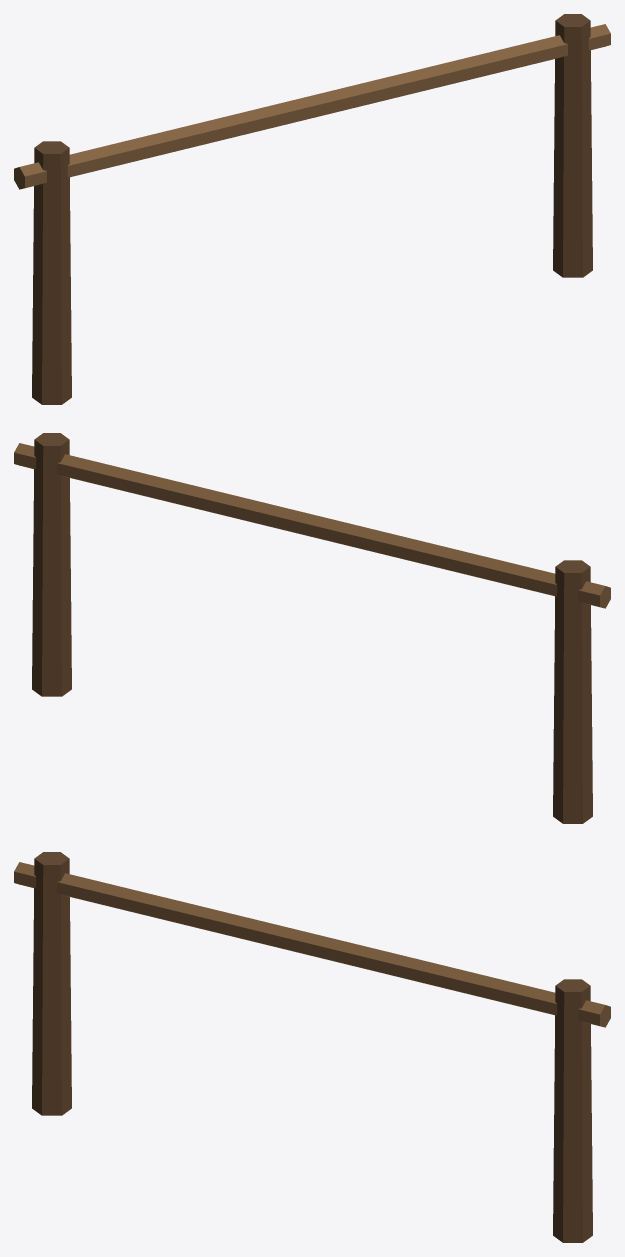
The model's file is Farm_HitchingPost.obj.
The picture shows the model from 3 angles, top to bottom: view 1: azimuth 30°, elevation 25°; view 2: azimuth 150°, elevation 25°; view 3: azimuth 330°, elevation 25°; orthographic projection.
Visible parts, largest first — view 1: Farm_HitchingPost; view 2: Farm_HitchingPost; view 3: Farm_HitchingPost.
Part boxes in pixels (box(x1,y1,x2,y2)): Farm_HitchingPost: box(14, 14, 610, 404); Farm_HitchingPost: box(14, 433, 610, 823); Farm_HitchingPost: box(14, 852, 610, 1242).
Bounding box in the file's own units: 2.7 × 1.1 × 0.16.
